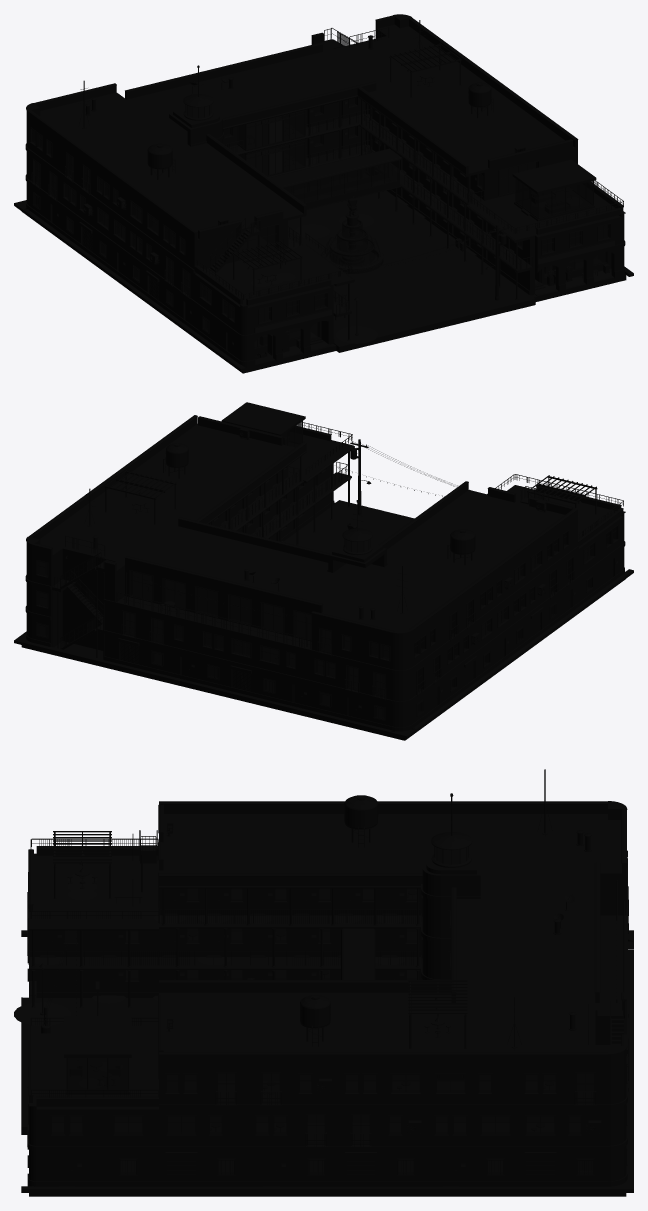
The model's file is court-BfHrxt0-.glb.
The picture shows the model from 3 angles, top to bottom: view 1: azimuth 30°, elevation 25°; view 2: azimuth 150°, elevation 25°; view 3: azimuth 270°, elevation 25°; orthographic projection. The views are drawn at different scales.
Visible parts, largest first — view 1: body, glass, glow, pool; view 2: body, glass, glow, pool; view 3: body, glass, glow, pool.
Part boxes in pixels (x1,y1,x2,y2): body: (14,14,633,373); glass: (33,98,608,346); glow: (38,61,614,344); pool: (239,113,611,356); body: (14,402,633,740); glass: (38,421,615,718); glow: (39,468,617,717); pool: (61,483,579,693); body: (21,769,633,1196); glass: (52,889,593,1173); glow: (27,793,616,1172); pool: (14,873,592,1172).
Bounding box in the file's own units: 40 × 16.18 × 40.47.
Materials: 4 (4 with a texture image).
